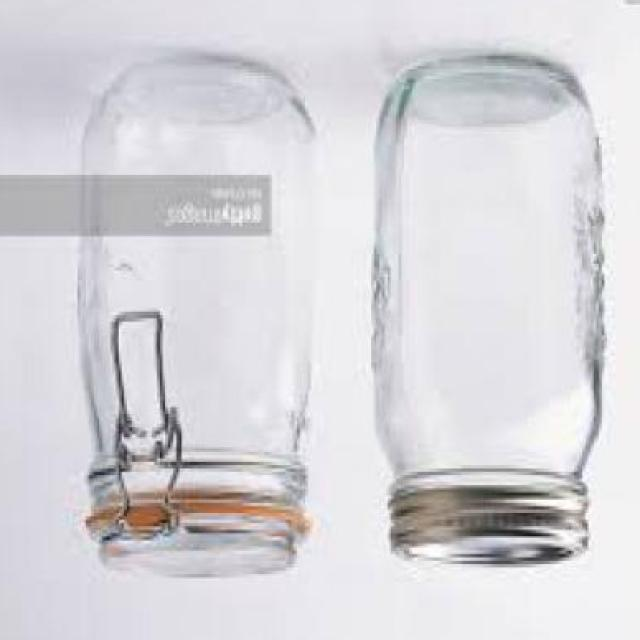kaca: (82, 63, 322, 577), (376, 58, 607, 495)
